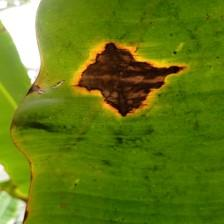cordana: (10, 0, 224, 224)
